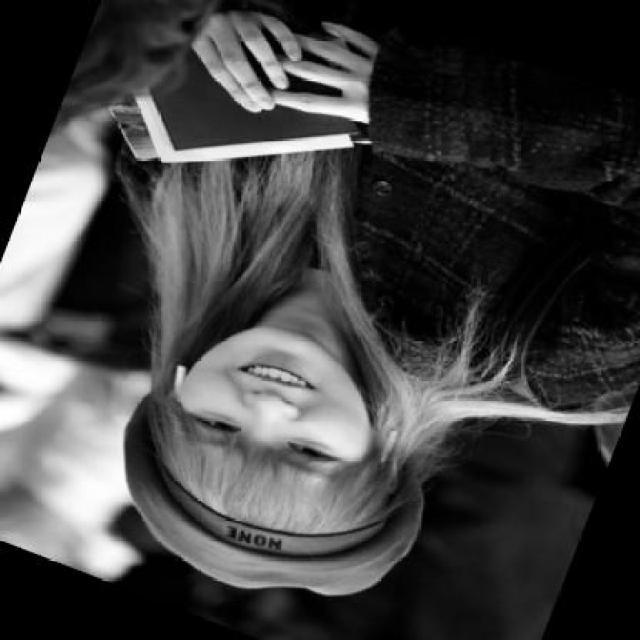earphone: (160, 352, 195, 404), (372, 422, 402, 474)
